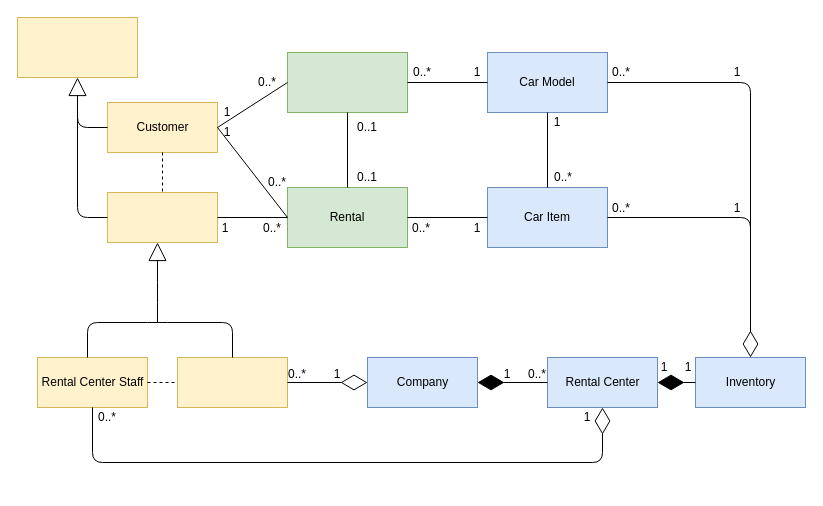
Image size: 823x506. Some labels were removed from this diagram. The centre of each missing label's shape, as x and y in pixels:
"Headquarter Staff" belongs at pixel 232 382.
"Person" belongs at pixel 77 47.
"Reservation" belongs at pixel 347 82.
"Staff" belongs at pixel 162 217.
